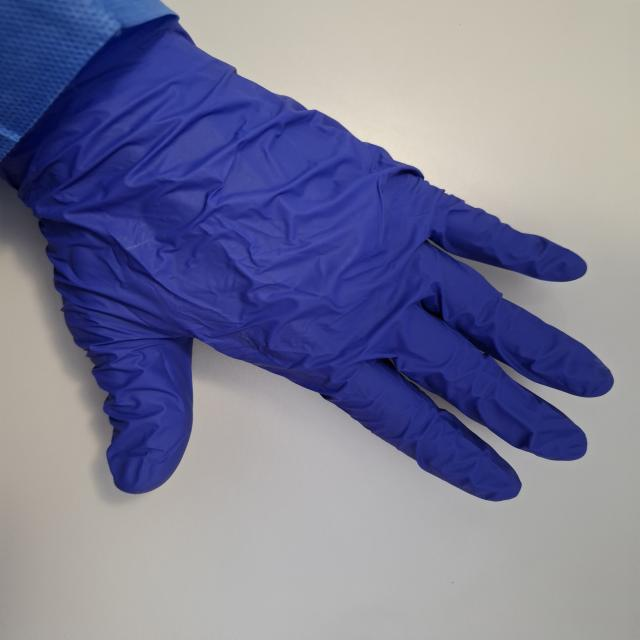glove_on: (10, 15, 621, 509)
